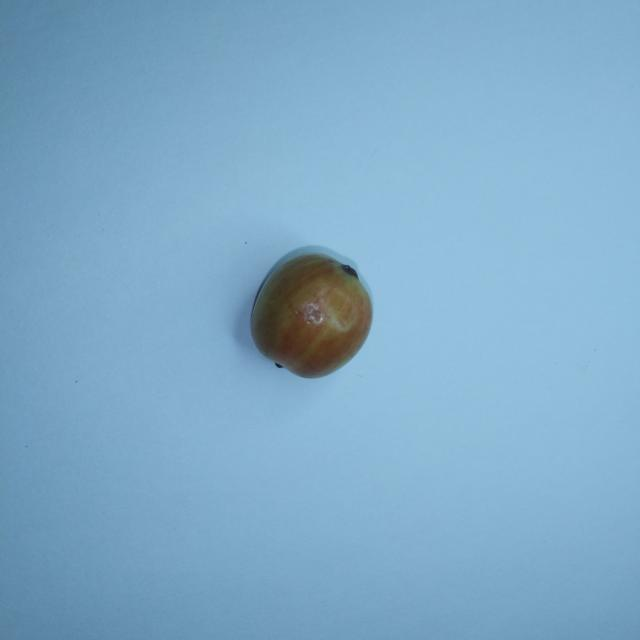Sano: (251, 247, 372, 377)
